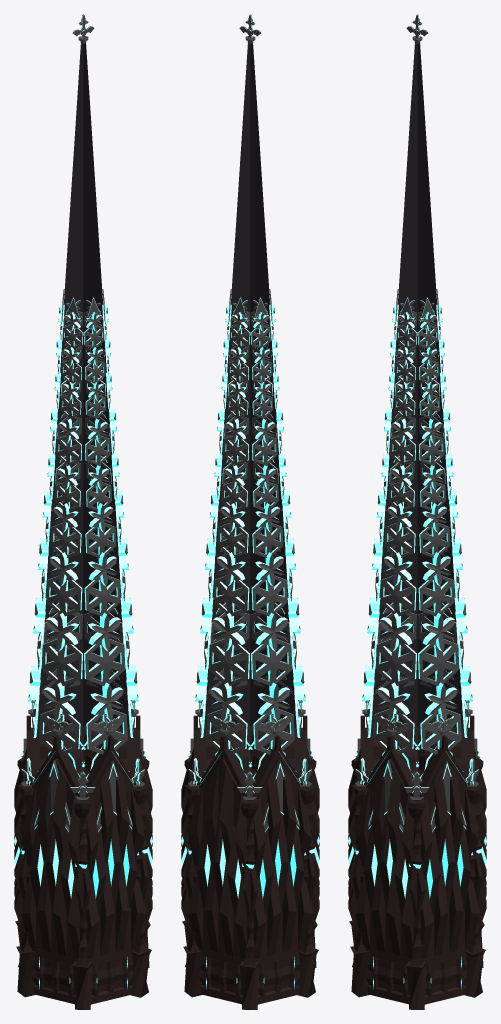
Rendered from Goth_5.glb.
The picture shows the model from 3 angles, left to right: view 1: azimuth 30°, elevation 25°; view 2: azimuth 150°, elevation 25°; view 3: azimuth 330°, elevation 25°; orthographic projection.
Parts seen in each view (by area): view 1: WallWithWindow.034, WallWithWindow.039, Circle.004, Circle.005, Pillar.042, Pattern.001, Pattern.046, Barrier.037, Barrier.042, Roof.020, Pattern.009, Pattern.054 (+30 smaller); view 2: WallWithWindow.037, WallWithWindow.038, Circle.002, Circle.003, Pillar.046_Metal_0, Pattern.028, Pattern.037, Barrier.041, Barrier.040, Roof.021, Pattern.036, Pattern.045 (+29 smaller); view 3: WallWithWindow.035, WallWithWindow.034, Circle.006_Scale_0, Circle.005, Pillar.043, Pattern.001, Pattern.010, Barrier.038, Barrier.037, Roof.021, Pattern.009, Pattern.018 (+30 smaller).
Part boxes in pixels (left/top/right/bottom): WallWithWindow.034: left=82, top=758, right=148, bottom=959; WallWithWindow.039: left=18, top=758, right=84, bottom=959; Circle.004: left=83, top=43, right=129, bottom=727; Circle.005: left=37, top=43, right=83, bottom=727; Pillar.042: left=72, top=799, right=92, bottom=1009; Pattern.001: left=84, top=612, right=125, bottom=685; Pattern.046: left=41, top=612, right=82, bottom=685; Barrier.037: left=88, top=948, right=134, bottom=1004; Barrier.042: left=31, top=948, right=77, bottom=1004; Roof.020: left=26, top=715, right=140, bottom=777; Pattern.009: left=86, top=682, right=127, bottom=754; Pattern.054: left=39, top=682, right=80, bottom=754; WallWithWindow.037: left=185, top=758, right=251, bottom=959; WallWithWindow.038: left=249, top=758, right=315, bottom=959; Circle.002: left=250, top=43, right=296, bottom=727; Circle.003: left=204, top=43, right=250, bottom=727; Pillar.046_Metal_0: left=239, top=799, right=259, bottom=1009; Pattern.028: left=208, top=612, right=249, bottom=685; Pattern.037: left=251, top=612, right=292, bottom=685; Barrier.041: left=255, top=948, right=301, bottom=1004; Barrier.040: left=198, top=948, right=244, bottom=1004; Roof.021: left=193, top=715, right=307, bottom=777; Pattern.036: left=206, top=682, right=247, bottom=754; Pattern.045: left=253, top=682, right=294, bottom=754; WallWithWindow.035: left=416, top=758, right=482, bottom=959; WallWithWindow.034: left=352, top=758, right=418, bottom=959; Circle.006_Scale_0: left=371, top=43, right=417, bottom=727; Circle.005: left=417, top=43, right=463, bottom=727; Pillar.043: left=406, top=799, right=426, bottom=1009; Pattern.001: left=375, top=612, right=416, bottom=685; Pattern.010: left=418, top=612, right=459, bottom=685; Barrier.038: left=422, top=948, right=468, bottom=1004; Barrier.037: left=365, top=948, right=411, bottom=1004; Roof.021: left=360, top=715, right=474, bottom=777; Pattern.009: left=373, top=682, right=414, bottom=754; Pattern.018: left=420, top=682, right=461, bottom=754.
Bounding box in the file's own units: 1233 × 8458 × 1100.
